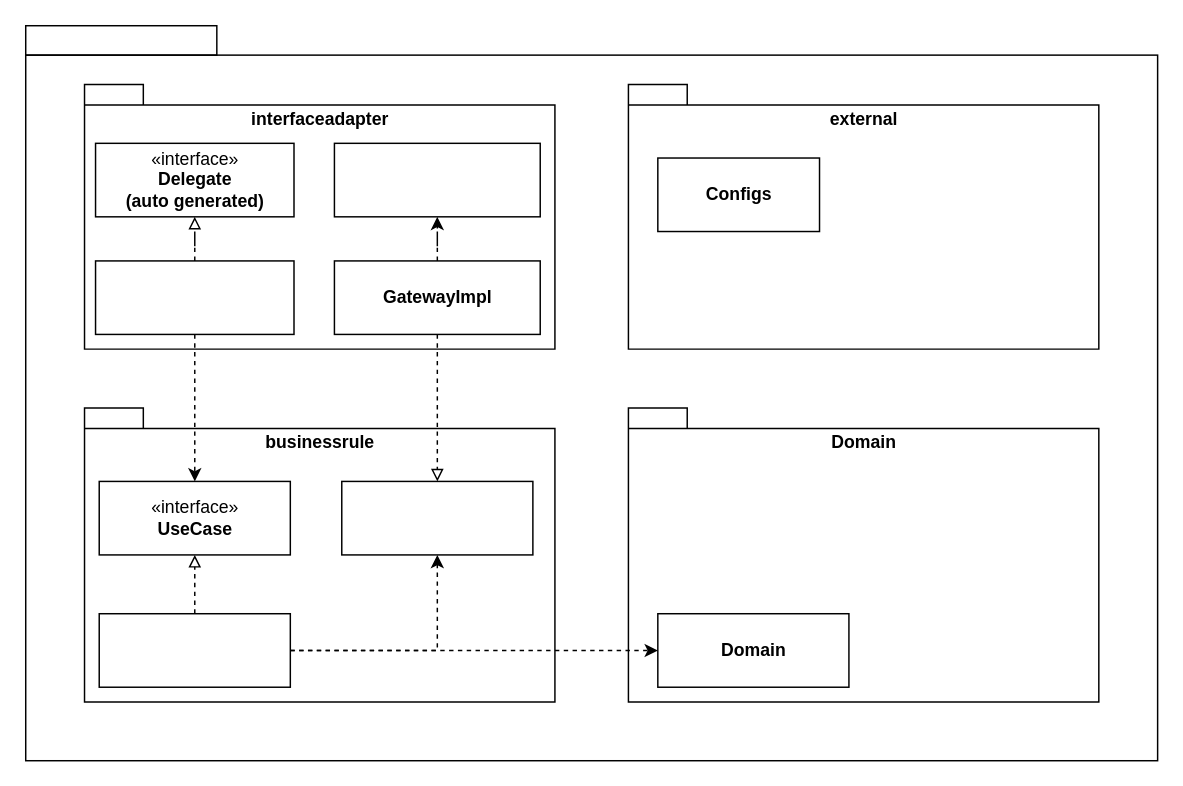
Image size: 1183x786. Some labels were removed from this diagram. Each missing label, with the centre of its shape:
@javax.inject.Named UseCaseImpl: the point at 194,649
Clean Architecture: the point at 120,39
DelegateImpl: the point at 194,296
«interface» Gateway: the point at 436,517
«interface» Repository: the point at 436,179
